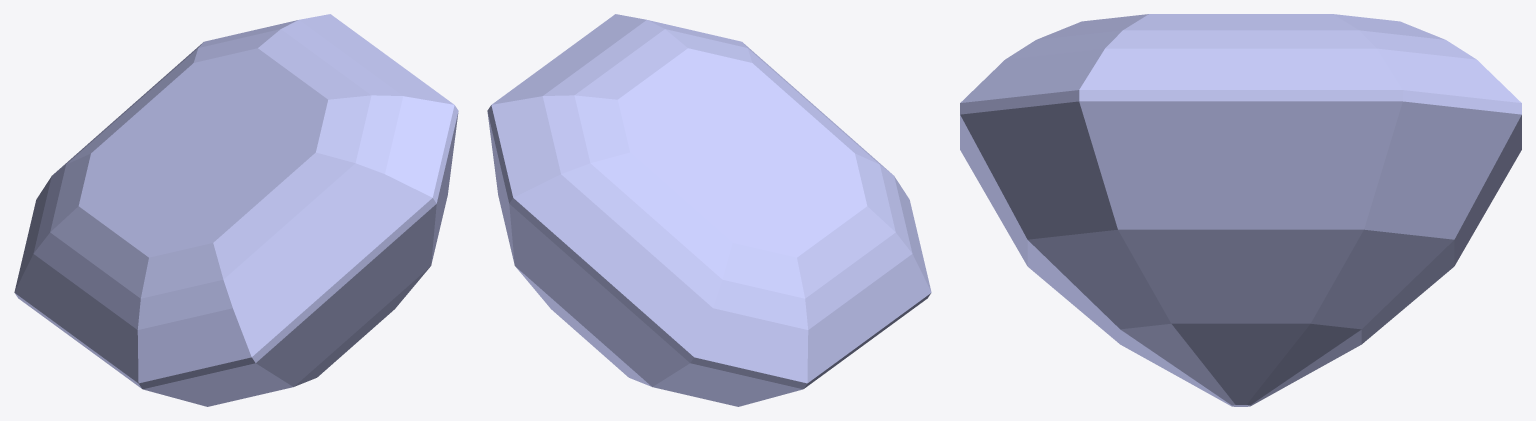
File: asscher-blue.glb
The picture shows the model from 3 angles, left to right: view 1: azimuth 30°, elevation 25°; view 2: azimuth 150°, elevation 25°; view 3: azimuth 270°, elevation 25°; orthographic projection. The views are drawn at different scales.
Visible parts, largest first — view 1: [Translucent Glass Blue]; view 2: [Translucent Glass Blue]; view 3: [Translucent Glass Blue].
Part boxes in pixels (x1,y1,x2,y2): [Translucent Glass Blue]: (14, 14, 458, 406); [Translucent Glass Blue]: (487, 14, 931, 406); [Translucent Glass Blue]: (960, 14, 1521, 406).
Size of the model in its own units: 0.1581 by 0.1342 by 0.182.
